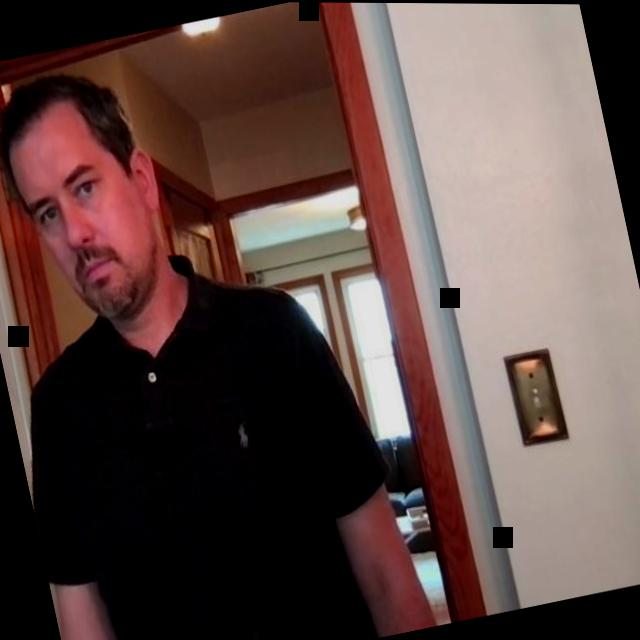NO-Mask: (0, 57, 185, 347)
